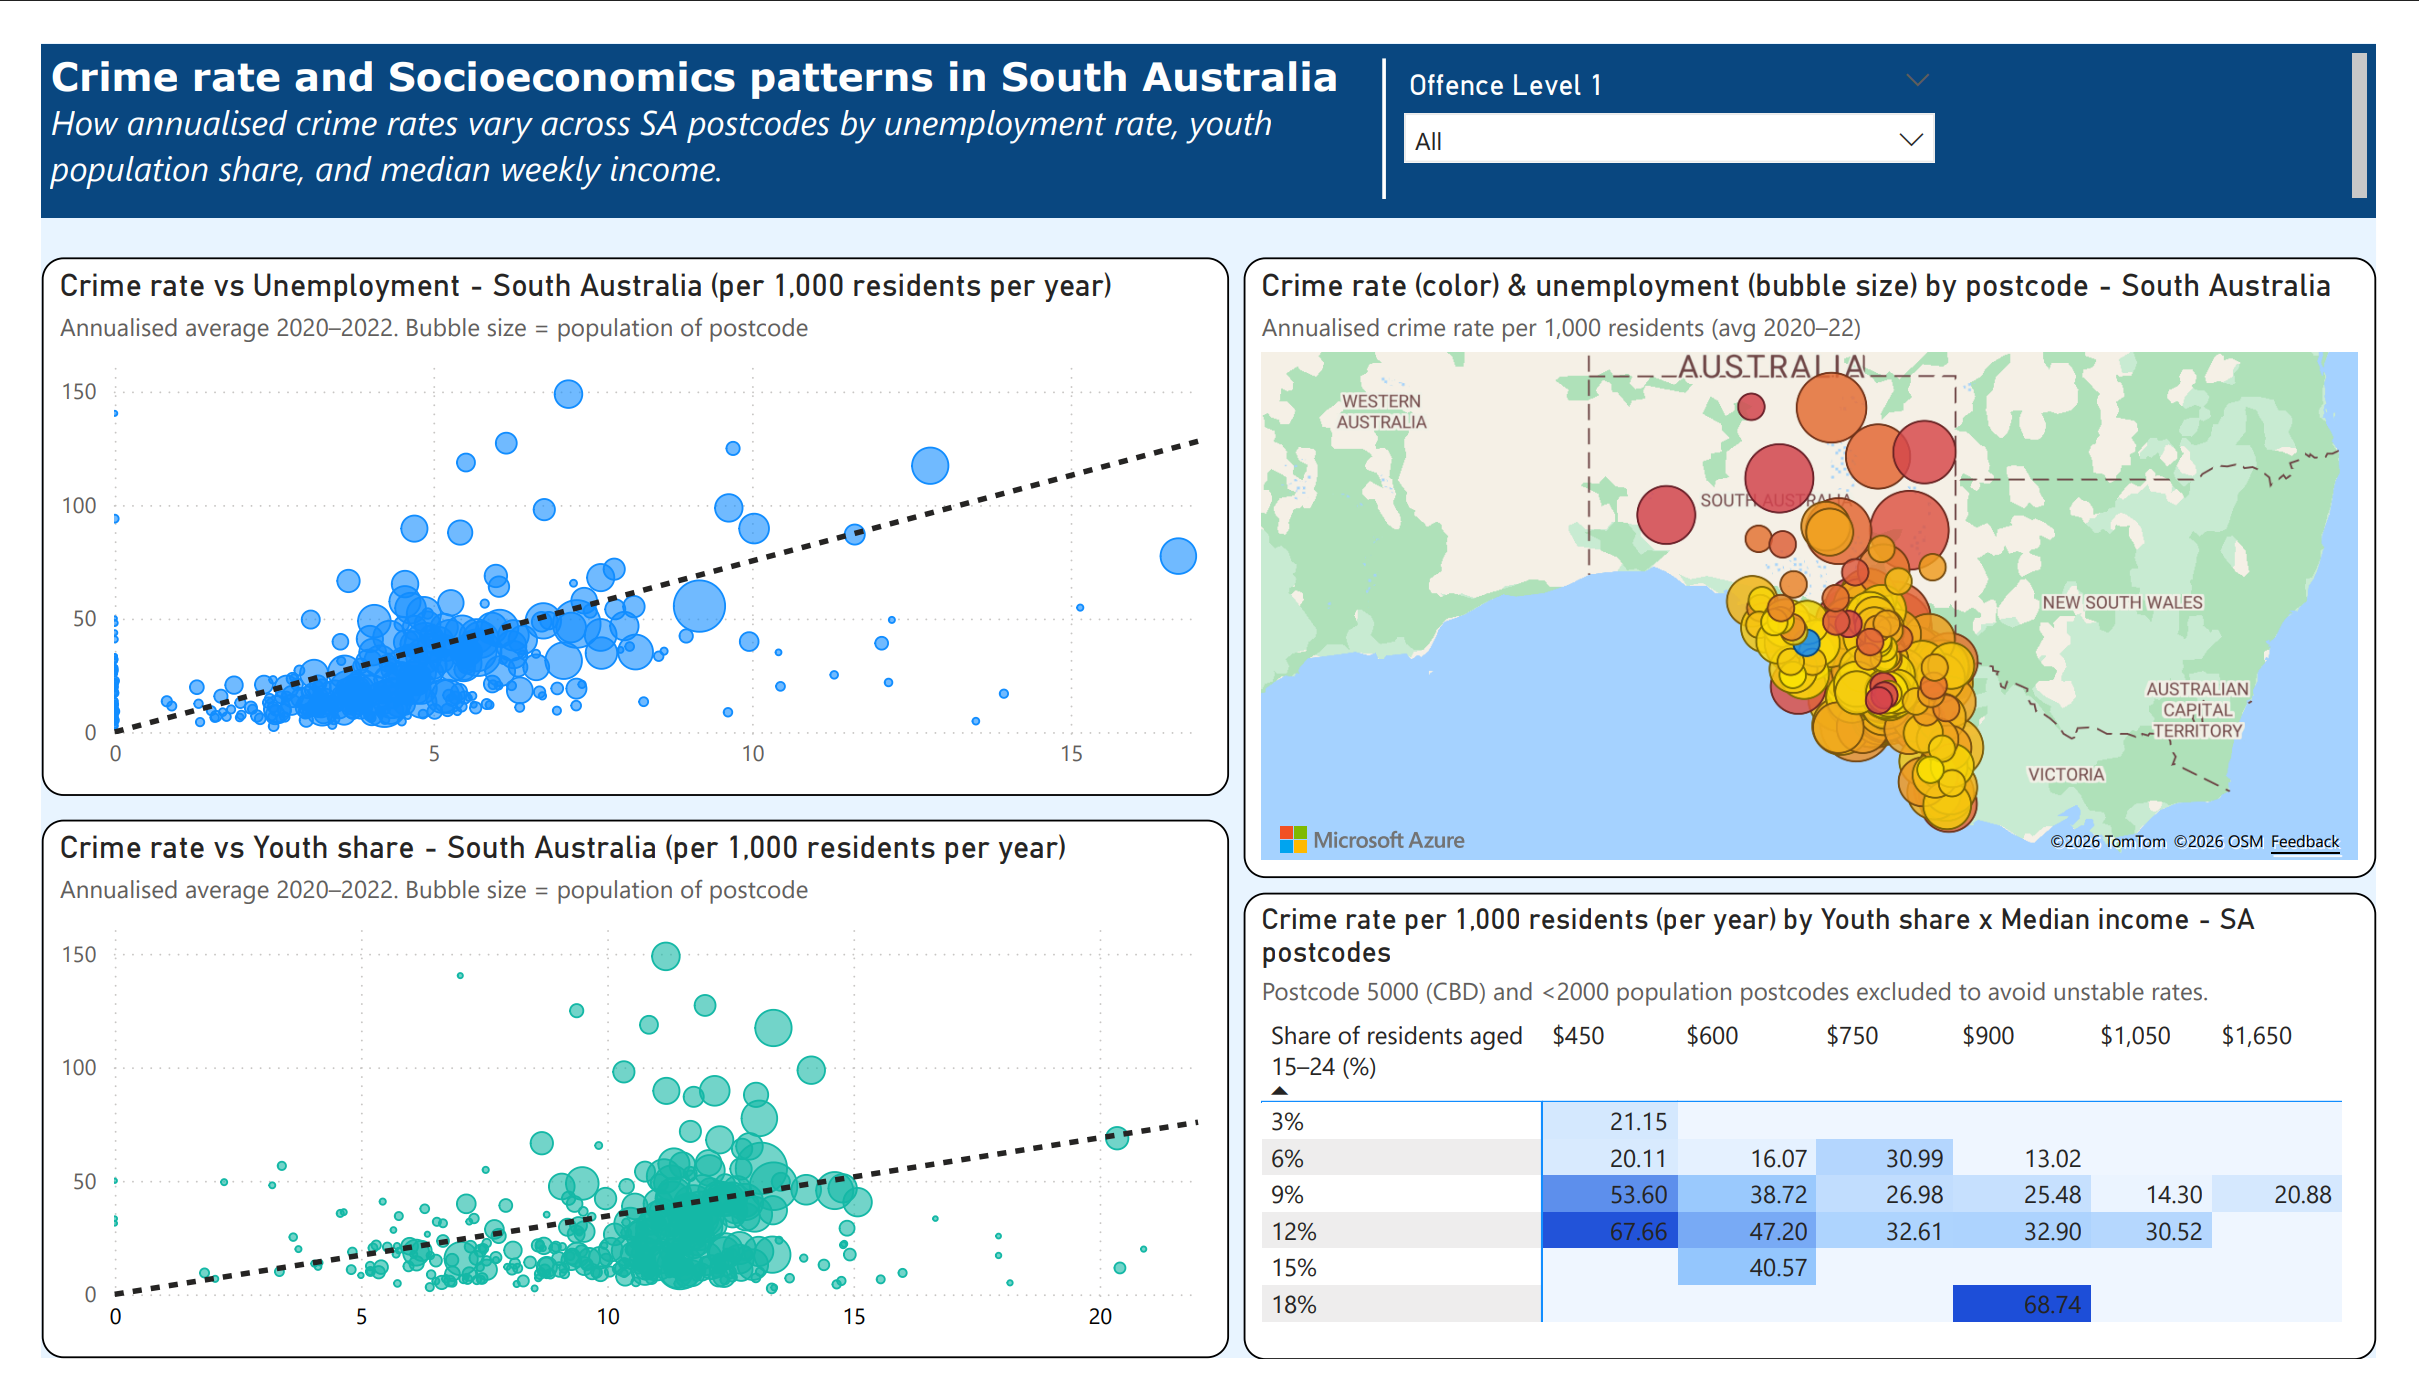

The dashboard page shown, as its layout file describes it:
{"tool":"powerbi","page":{"name":"Page 3","canvas":[1280,720],"ordinal":2},"visuals":[{"type":"scatterChart","title":"Crime rate vs Youth share - South Australia (per 1,000 residents per year)","fields":{"Category":["2021Census_G01_SA_POA.PostcodeText"],"X":["2021Census_G01_SA_POA.Youth share (total)"],"Y":["20-22.Rate per 1k 20-22"],"Size":["Sum(2021Census_G01_SA_POA.population)"]},"box":[0,424.7,650.6,295.1],"z":0},{"type":"scatterChart","title":"Crime rate vs Unemployment - South Australia (per 1,000 residents per year)","fields":{"X":["2021Labour Force Status by Age by Sex.Unemployment rate (of labour force)"],"Category":["2021Census_G01_SA_POA.PostcodeText"],"Y":["20-22.Rate per 1k 20-22"],"Size":["Sum(2021Census_G01_SA_POA.population)"]},"box":[0,117.3,650.6,295.1],"z":1000},{"type":"pivotTable","title":"Crime rate per 1,000 residents (per year) by Youth share x Median income - SA postcodes","fields":{"Columns":["2021Selected Medians and Averages.Median_tot_prsnl_inc_weekly (bins)"],"Rows":["2021Census_G01_SA_POA.YouthShare_col (bins)"],"Values":["20-22.Crime Rate per 1k (Pop > 2000)"]},"box":[659.3,465.4,621,255.6],"z":2000},{"type":"azureMap","title":"Crime rate (color) & unemployment (bubble size) by postcode - South Australia","fields":{"Category":["2021Census_G01_SA_POA.PostcodeText"],"Size":["2021Labour Force Status by Age by Sex.Unemployment rate (of labour force)"]},"box":[659.3,117.3,621,339.5],"z":3000},{"type":"shape","box":[784,8.6,116,66.7],"z":4000},{"type":"textbox","box":[0,0,1280.2,95.1],"z":5000},{"type":"slicer","fields":{"Values":["20-22.Offence Level 1 Description"]},"box":[736.6,8.1,311.9,97.7],"z":6000},{"type":"shape","box":[670.3,8.1,131.5,76.8],"z":7000}]}

Visuals, with their boxes in screenshot pixels (x1, y1, x2, y2), scaled from the page's 1280x720 canvas onto the 2419x1398 screenshot:
"Crime rate vs Youth share - South Australia (per 1,000 residents per year)" scatterChart: (x1=0, y1=825, x2=1230, y2=1397)
"Crime rate vs Unemployment - South Australia (per 1,000 residents per year)" scatterChart: (x1=0, y1=228, x2=1230, y2=801)
"Crime rate per 1,000 residents (per year) by Youth share x Median income - SA postcodes" pivotTable: (x1=1246, y1=904, x2=2418, y2=1397)
"Crime rate (color) & unemployment (bubble size) by postcode - South Australia" azureMap: (x1=1246, y1=228, x2=2418, y2=887)
shape: (x1=1482, y1=17, x2=1701, y2=146)
textbox: (x1=0, y1=0, x2=2418, y2=185)
slicer - 20-22.Offence Level 1 Description: (x1=1392, y1=16, x2=1982, y2=205)
shape: (x1=1267, y1=16, x2=1515, y2=165)
